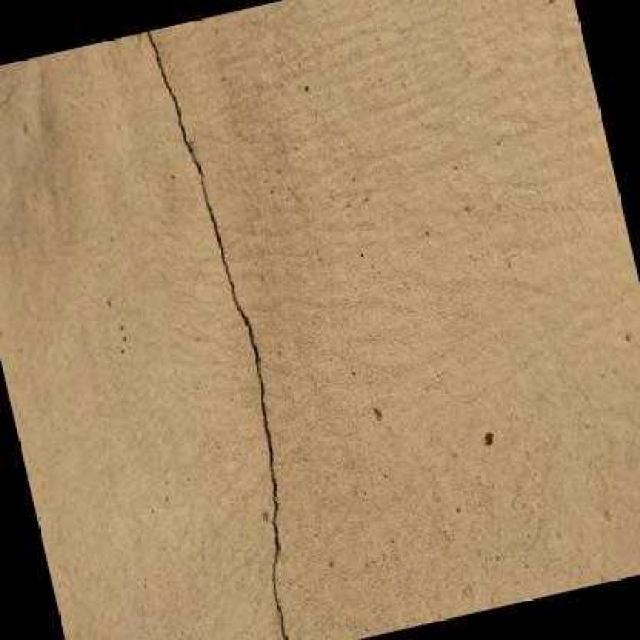D00: (148, 31, 289, 640)
